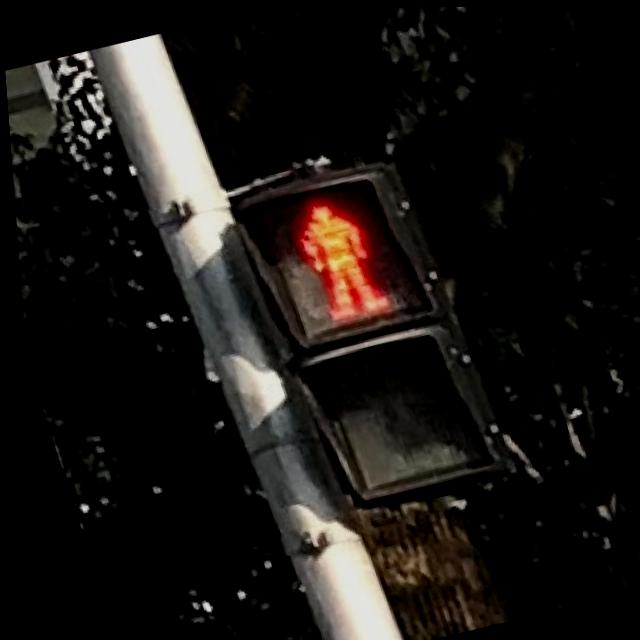red_light: (254, 158, 426, 342)
